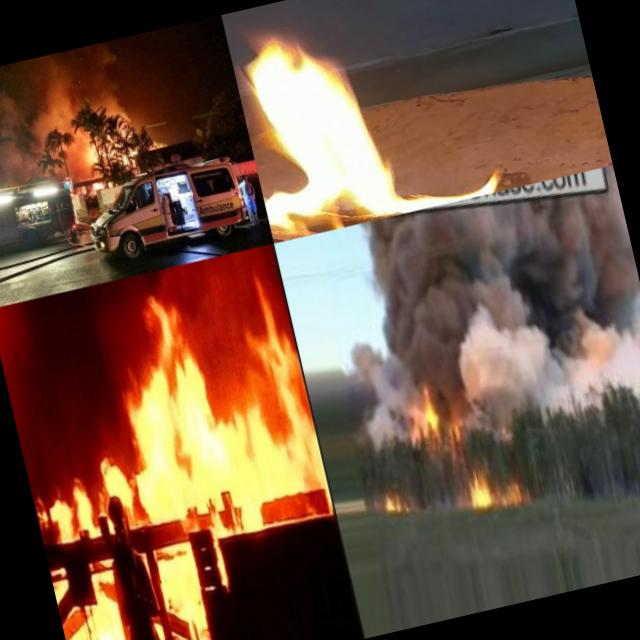fire: (223, 0, 575, 243), (103, 294, 328, 524), (30, 462, 96, 542), (449, 456, 523, 520), (92, 440, 138, 524), (398, 381, 446, 451), (372, 482, 414, 524), (110, 134, 138, 170), (74, 131, 97, 167)
smoke: (428, 233, 640, 439), (0, 39, 131, 152)
